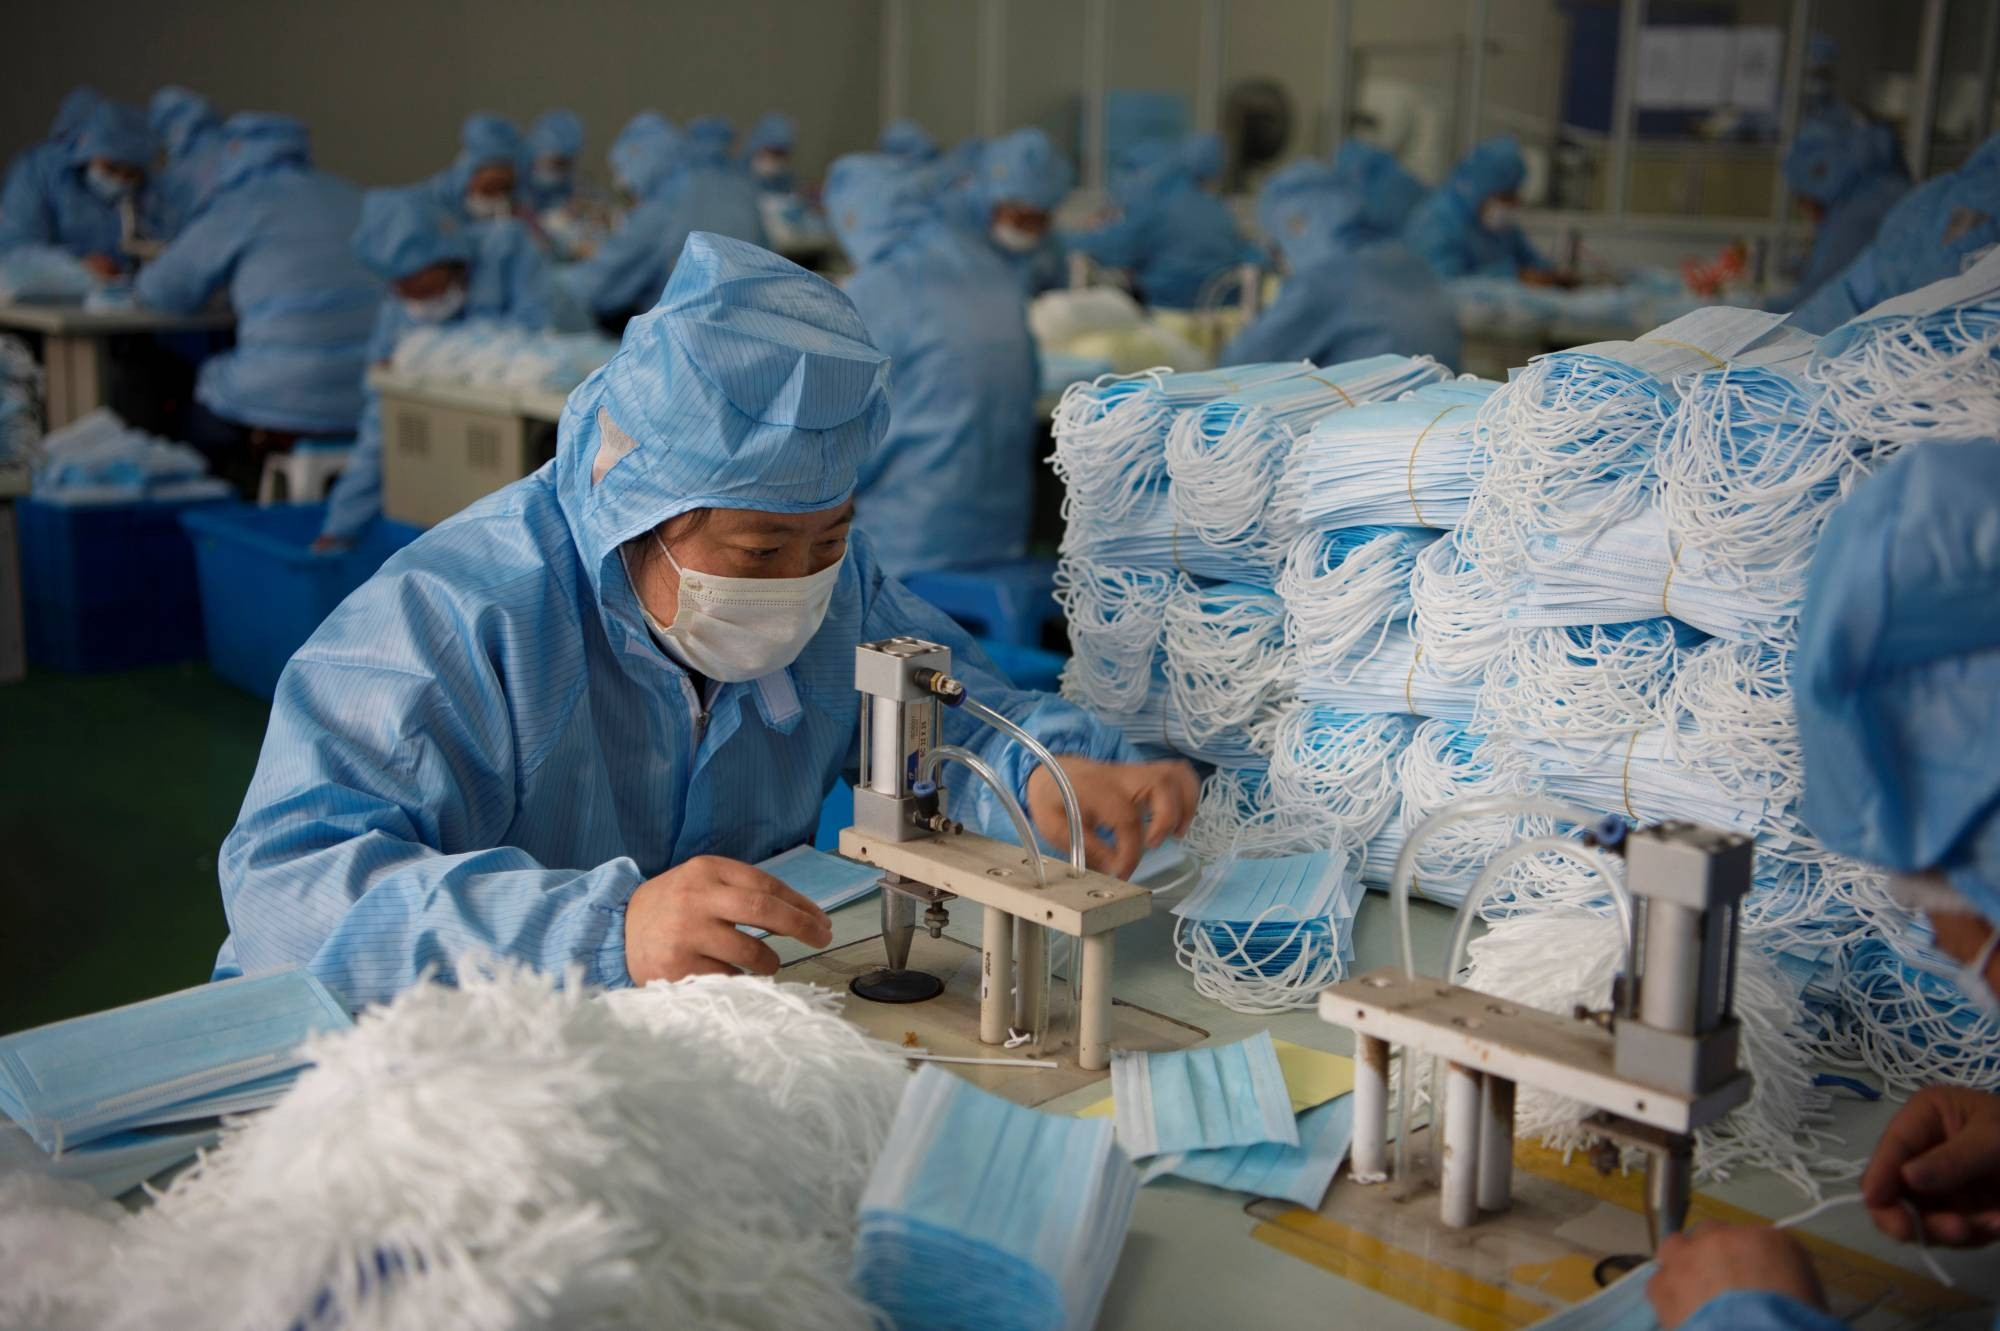Coverall: (219, 228, 1097, 988), (803, 154, 1047, 578), (156, 110, 393, 438), (1238, 167, 1484, 369), (3, 97, 153, 295)
with_mask: (664, 515, 851, 686)
